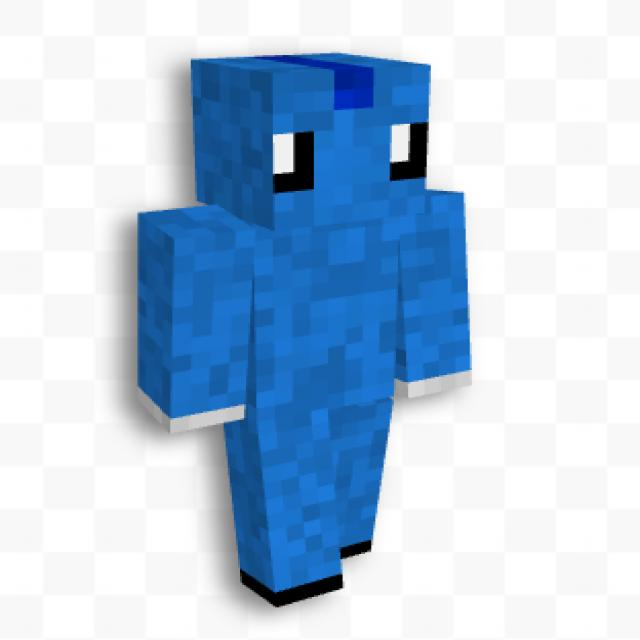Player: (132, 52, 475, 604)
